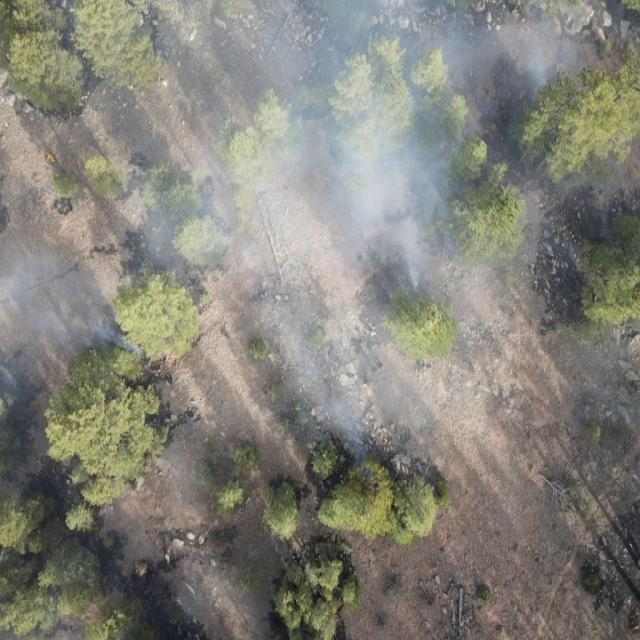fire: (516, 11, 538, 25), (69, 40, 82, 56)
smoke: (157, 125, 477, 467), (0, 1, 593, 127), (0, 251, 155, 401)
